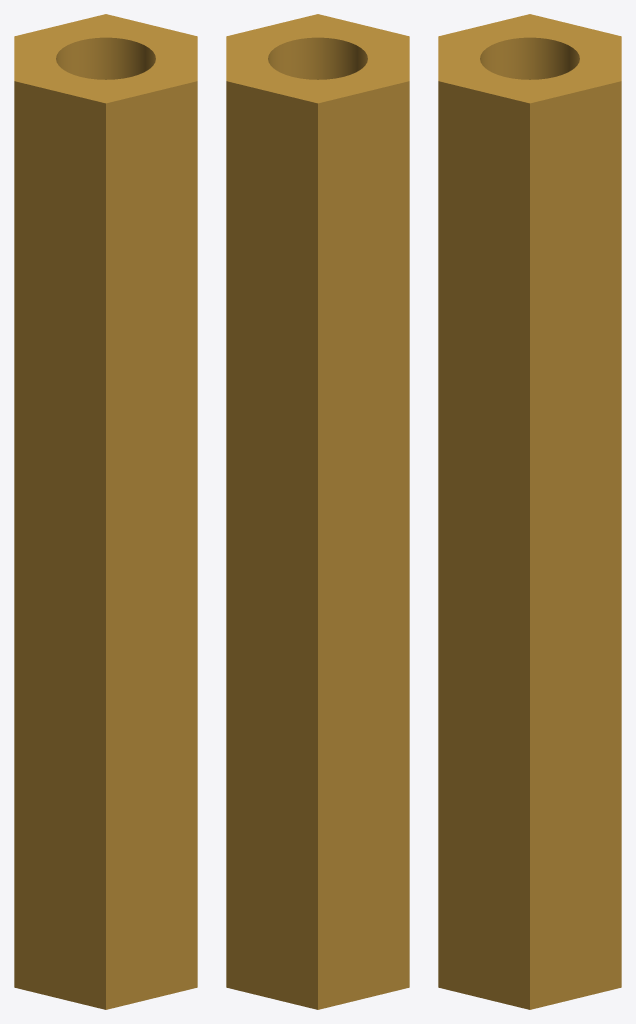
The model's file is espacador_m3x30.glb.
3 renders of one model, left to right at view 1: azimuth 30°, elevation 25°; view 2: azimuth 150°, elevation 25°; view 3: azimuth 270°, elevation 25°, orthographic.
Visible parts, largest first — view 1: espacador; view 2: espacador; view 3: espacador.
Part boxes in pixels (x1,y1,x2,y2): espacador: (14,14,197,1009); espacador: (226,14,409,1009); espacador: (438,14,621,1009).
Size of the model in its own units: 6.35 by 30 by 5.5.
